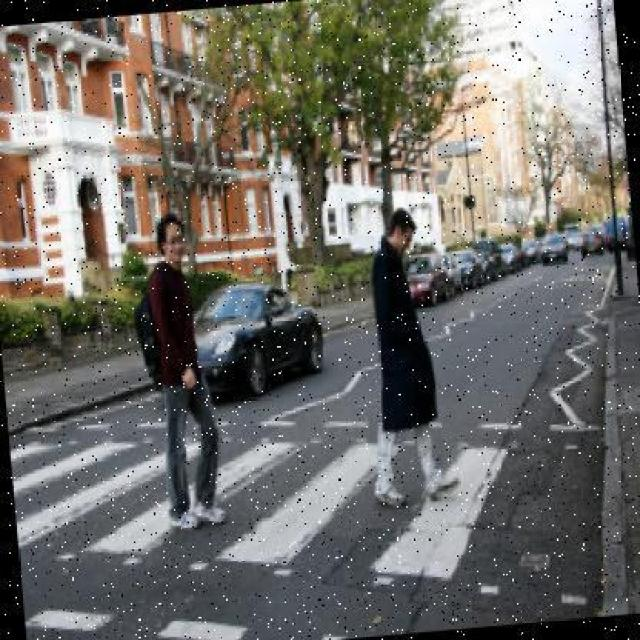Person: (352, 205, 458, 504), (133, 214, 224, 532)
